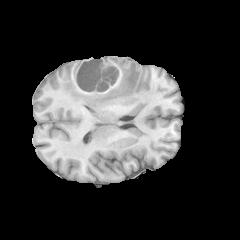glioma: (61, 58, 143, 109)
